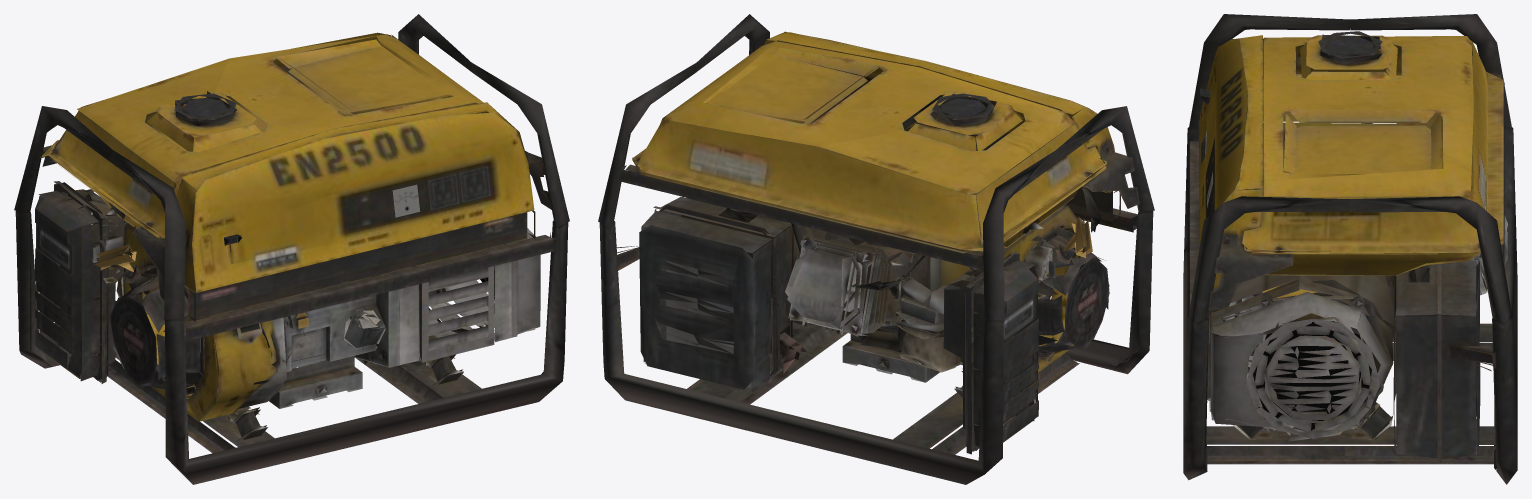
The model's file is portable_generator.glb.
3 views of the same model, side by side, from view 1: azimuth 30°, elevation 25°; view 2: azimuth 150°, elevation 25°; view 3: azimuth 270°, elevation 25° (orthographic). The views are drawn at different scales.
Parts seen in each view (by area): view 1: portable_generator; view 2: portable_generator; view 3: portable_generator.
Boxes of the visible parts, x1,y1,x2,y2 form: portable_generator: (14, 14, 569, 484); portable_generator: (598, 14, 1154, 484); portable_generator: (1183, 14, 1517, 484).
Bounding box in the file's own units: 0.8217 × 0.577 × 0.5657.
2 materials, 2 textured.
